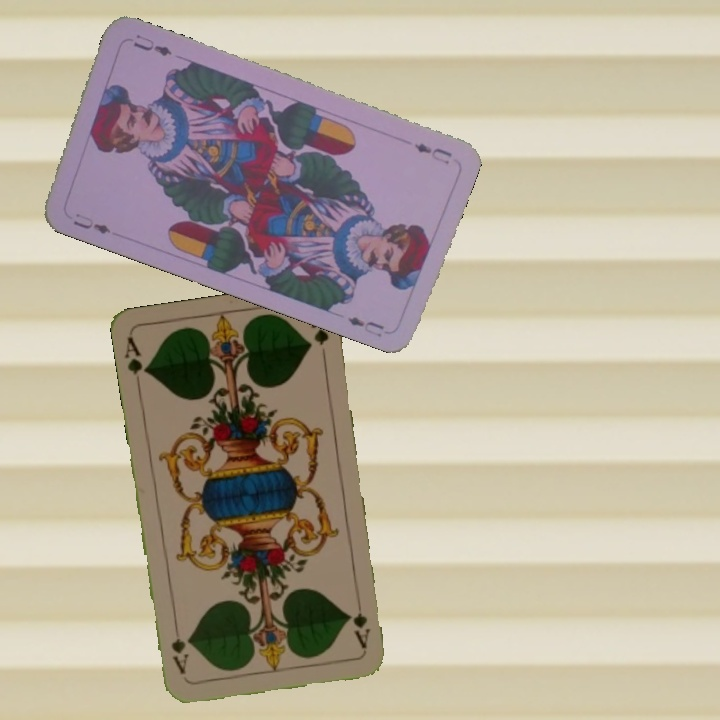EU: (410, 139, 455, 168), (69, 209, 114, 237)
GA: (121, 333, 151, 392), (349, 592, 373, 651)
